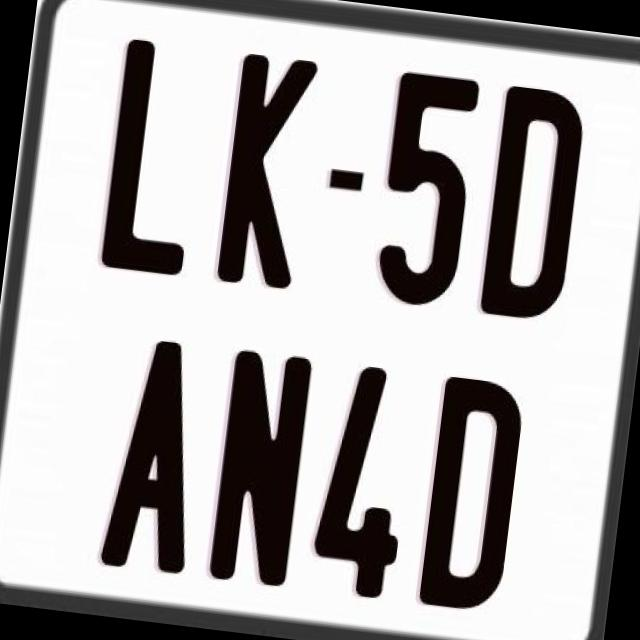4: (308, 360, 422, 603)
5: (368, 70, 484, 314)
A: (97, 334, 212, 574)
D: (478, 85, 594, 323), (414, 376, 524, 620)
K: (213, 48, 318, 294)
L: (96, 32, 208, 270)
N: (207, 346, 317, 592)
